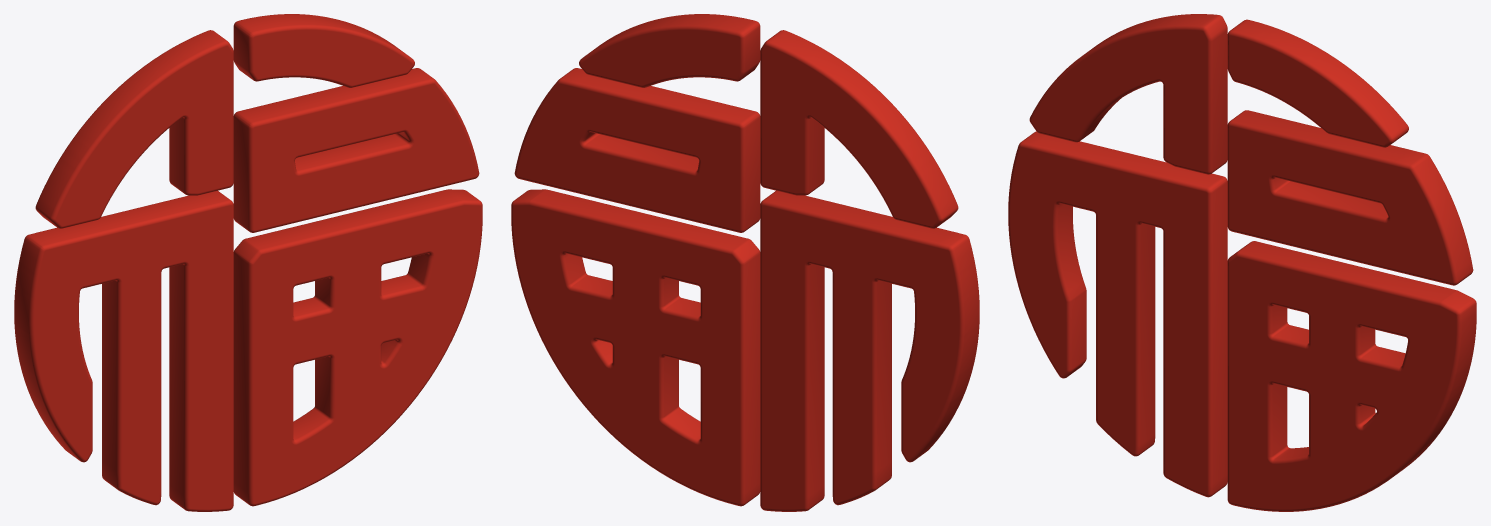
Rendered from fu-circular-ligera.glb.
3 views of the same model, side by side, from view 1: azimuth 30°, elevation 25°; view 2: azimuth 150°, elevation 25°; view 3: azimuth 330°, elevation 25° (orthographic).
Parts seen in each view (by area): view 1: geometry_0; view 2: geometry_0; view 3: geometry_0.
Part boxes in pixels (x1,y1,x2,y2): geometry_0: (14,14,482,511); geometry_0: (511,14,979,511); geometry_0: (1008,14,1476,511).
Bounding box in the file's own units: 1 × 1 × 0.07.
